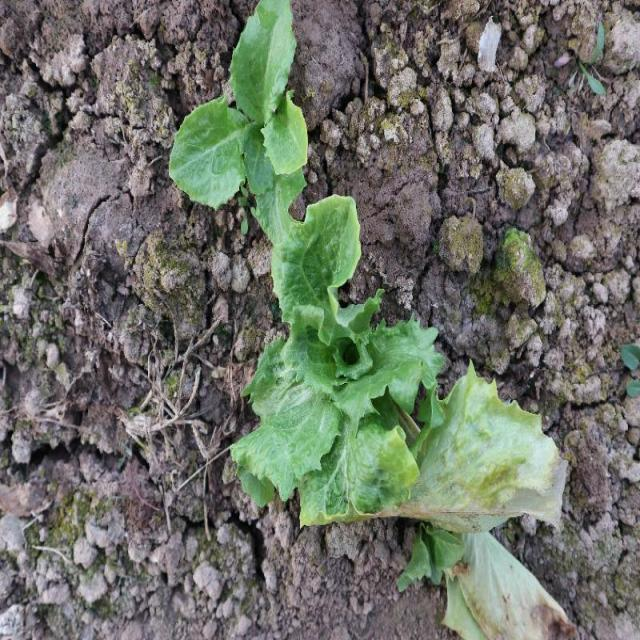crop: (167, 0, 439, 528)
